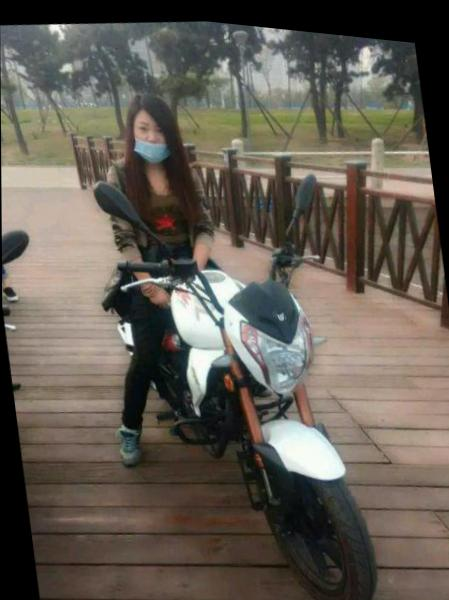WRONG: (123, 107, 176, 165)
